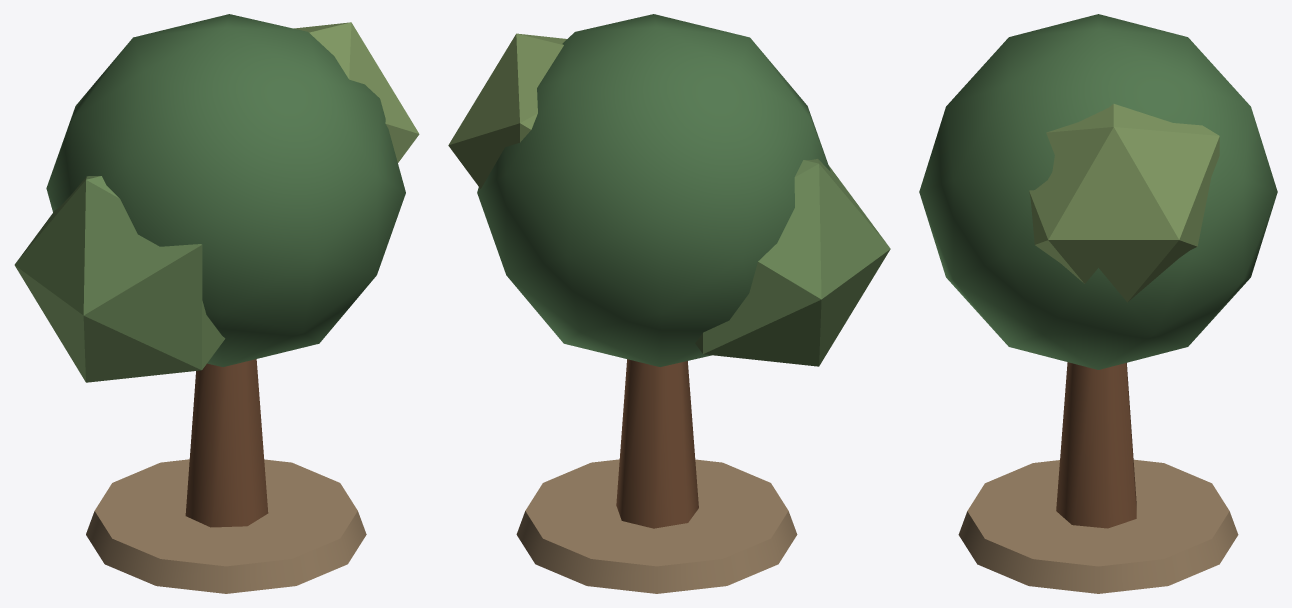
Rendered from little-big-oak.glb.
3 renders of one model, left to right at view 1: azimuth 30°, elevation 25°; view 2: azimuth 150°, elevation 25°; view 3: azimuth 270°, elevation 25°, orthographic.
Parts seen in each view (by area): view 1: oak; view 2: oak; view 3: oak.
Boxes of the visible parts, x1,y1,x2,y2 form: oak: (14, 14, 419, 593); oak: (448, 14, 890, 593); oak: (919, 14, 1277, 593).
Size of the model in its own units: 1.88 by 2.55 by 1.64.
